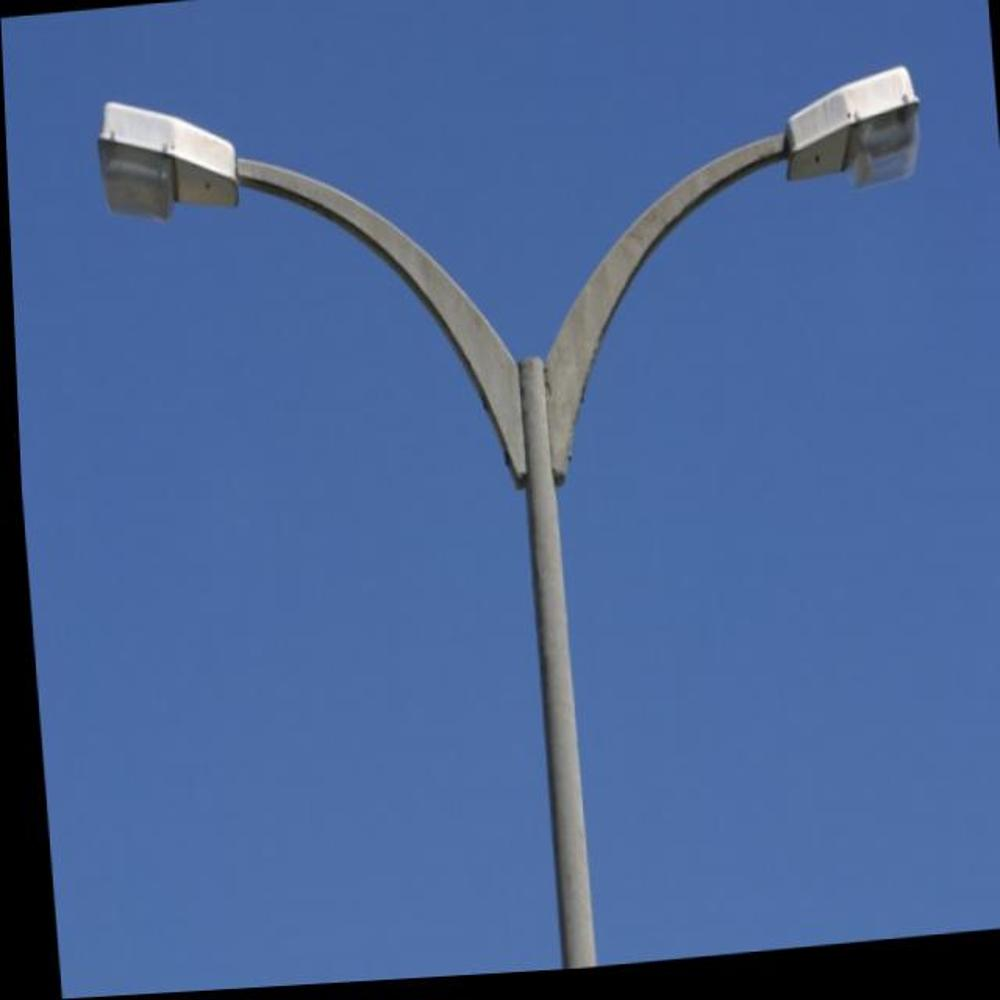shelf: (64, 0, 1000, 997)
